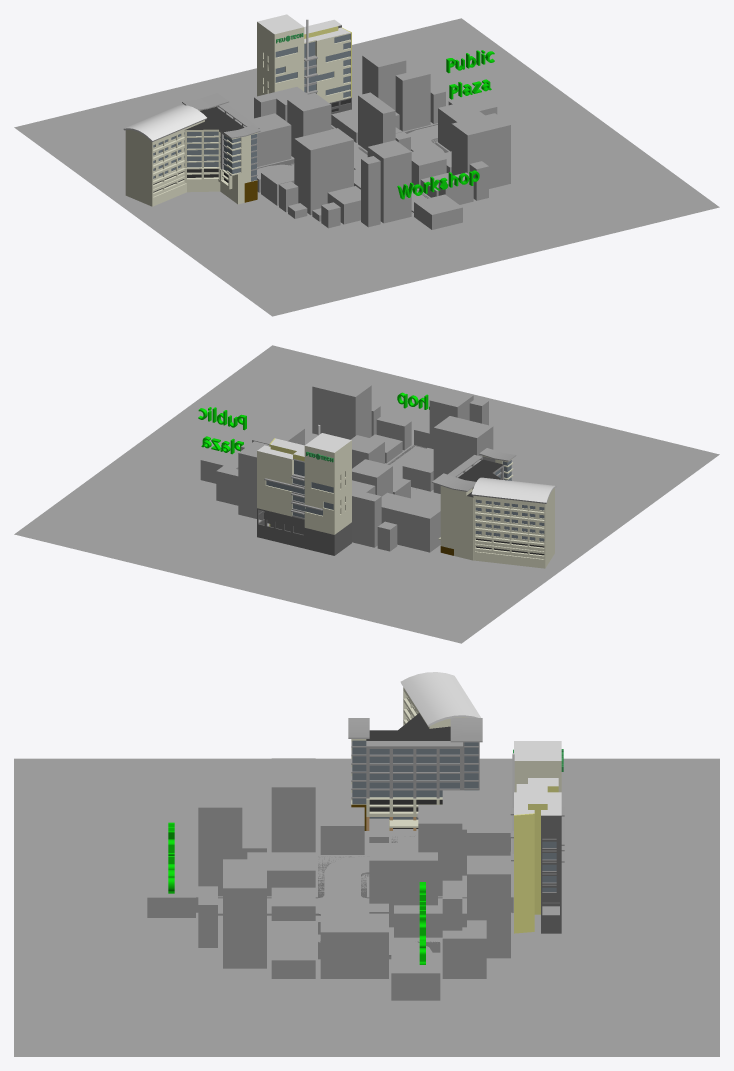
The model's file is Map.fbx.
The picture shows the model from 3 angles, top to bottom: view 1: azimuth 30°, elevation 25°; view 2: azimuth 150°, elevation 25°; view 3: azimuth 270°, elevation 25°; orthographic projection. The views are drawn at different scales.
Parts seen in each view (by area): view 1: Map_Ground, Map_Buildings_Placeholder, FEU_Eng_Bldg_Main, Tech_Bldg, Tech_Bldg5, FEU_Eng_Bldg_Right, FEU_Eng_Bldg_Connector_Top, FEU_Eng_Bldg_Main_Roof, Map_Workshop_Placeholder, Map_Road, FEU_Eng_Bldg_Top, Map_PLAZA_Text (+3 smaller); view 2: Map_Ground, Map_Buildings_Placeholder, FEU_Eng_Bldg_Main, Tech_Bldg, Tech_Bldg2, FEU_Eng_Bldg_Left, FEU_Eng_Bldg_Main_Roof, Map_PLAZA_Text, Tech_Bldg_Bottom, FEU_Eng_Bldg_Top, Map_P_Plaza_Placeholder, Map_Road (+1 smaller); view 3: Map_Ground, Map_Buildings_Placeholder, FEU_Eng_Bldg_Top, Map_Road, Tech_Bldg2, FEU_Eng_Bldg_Main_Roof, Map_P_Plaza_Placeholder, Tech_Bldg5, Tech_Bldg, Map_Workshop_Placeholder, FEU_Eng_Bldg_Bottom, Tech_Bldg3 (+4 smaller).
Boxes of the visible parts, left/top/right/bottom form: Map_Ground: left=14, top=18, right=719, bottom=316; Map_Buildings_Placeholder: left=123, top=49, right=610, bottom=270; FEU_Eng_Bldg_Main: left=125, top=120, right=204, bottom=206; Tech_Bldg: left=257, top=14, right=304, bottom=96; Tech_Bldg5: left=304, top=27, right=351, bottom=102; FEU_Eng_Bldg_Right: left=223, top=125, right=260, bottom=204; FEU_Eng_Bldg_Connector_Top: left=184, top=112, right=220, bottom=168; FEU_Eng_Bldg_Main_Roof: left=123, top=105, right=206, bottom=142; Map_Workshop_Placeholder: left=414, top=194, right=462, bottom=229; Map_Road: left=257, top=125, right=444, bottom=212; FEU_Eng_Bldg_Top: left=200, top=103, right=259, bottom=175; Map_PLAZA_Text: left=446, top=50, right=494, bottom=99; Map_Ground: left=14, top=345, right=719, bottom=643; Map_Buildings_Placeholder: left=123, top=375, right=597, bottom=597; FEU_Eng_Bldg_Main: left=473, top=488, right=554, bottom=568; Tech_Bldg: left=303, top=433, right=351, bottom=534; Tech_Bldg2: left=257, top=445, right=305, bottom=548; FEU_Eng_Bldg_Left: left=432, top=473, right=475, bottom=560; FEU_Eng_Bldg_Main_Roof: left=471, top=477, right=556, bottom=503; Map_PLAZA_Text: left=198, top=407, right=246, bottom=454; Tech_Bldg_Bottom: left=304, top=528, right=344, bottom=555; FEU_Eng_Bldg_Top: left=448, top=455, right=503, bottom=479; Map_P_Plaza_Placeholder: left=200, top=449, right=238, bottom=483; Map_Road: left=390, top=446, right=440, bottom=505; Map_Ground: left=14, top=758, right=719, bottom=1056; Map_Buildings_Placeholder: left=122, top=758, right=611, bottom=1010; FEU_Eng_Bldg_Top: left=366, top=730, right=462, bottom=798; Map_Road: left=218, top=836, right=466, bottom=956; Tech_Bldg2: left=541, top=792, right=564, bottom=933; FEU_Eng_Bldg_Main_Roof: left=400, top=672, right=480, bottom=726; Map_P_Plaza_Placeholder: left=391, top=952, right=440, bottom=1000; Tech_Bldg5: left=510, top=792, right=534, bottom=904; Tech_Bldg: left=514, top=741, right=561, bottom=792; Map_Workshop_Placeholder: left=147, top=877, right=195, bottom=917; FEU_Eng_Bldg_Bottom: left=366, top=797, right=442, bottom=830; Tech_Bldg3: left=516, top=778, right=558, bottom=914.
Size of the model in its own units: 86.71 by 27.55 by 86.71.
